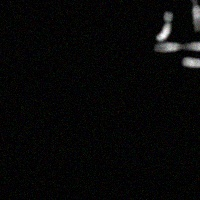chromosome: (156, 10, 176, 42), (153, 41, 200, 53), (185, 0, 200, 30), (182, 56, 200, 70)
